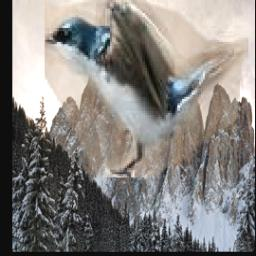Swallow: (44, 0, 247, 177)
